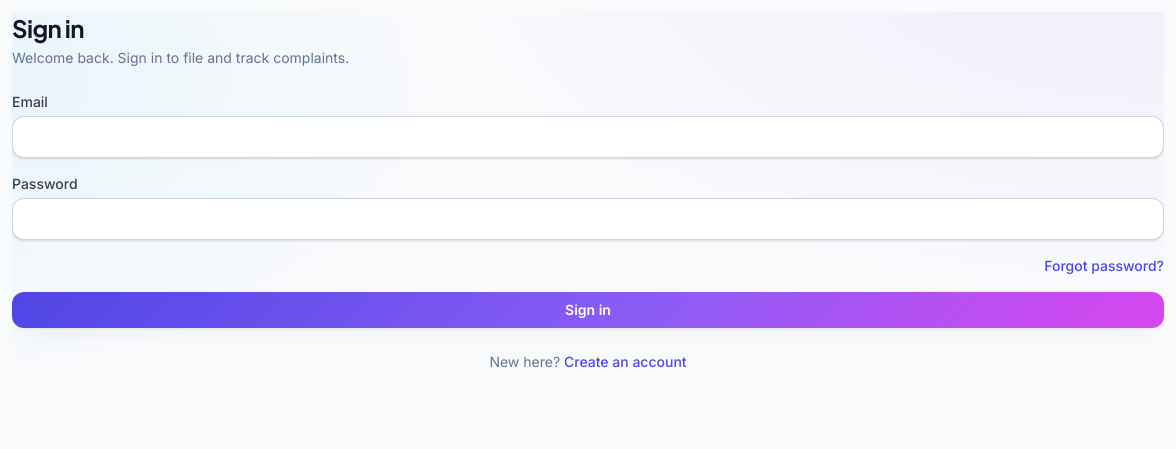
Test case: shows the server error for wrong credentials
Type "priya@example.com" into the field labelled "Email" at (588, 137), box x1=12 y1=116 x2=1164 y2=158
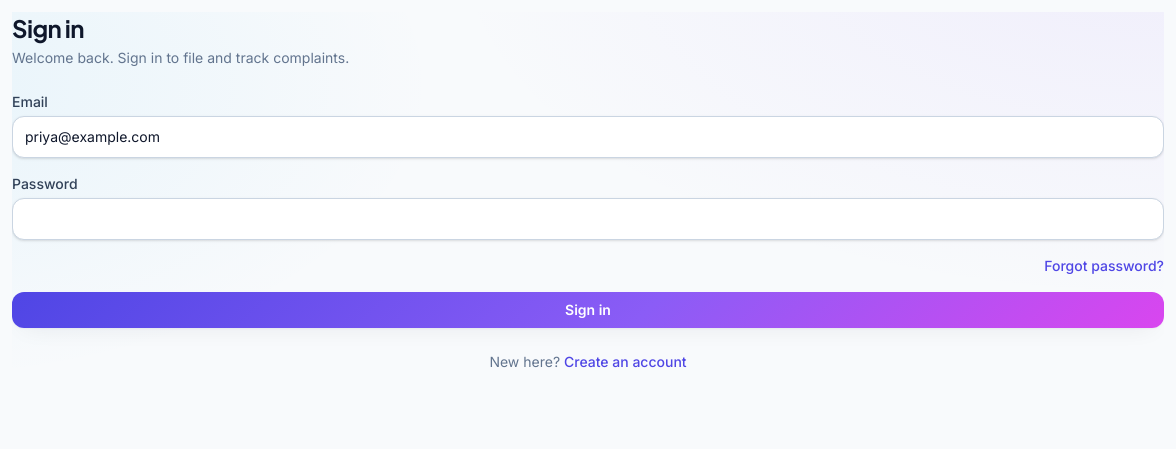
Type "wrong-pass1" into the password field labelled "Password" at (588, 219), box x1=12 y1=198 x2=1164 y2=240
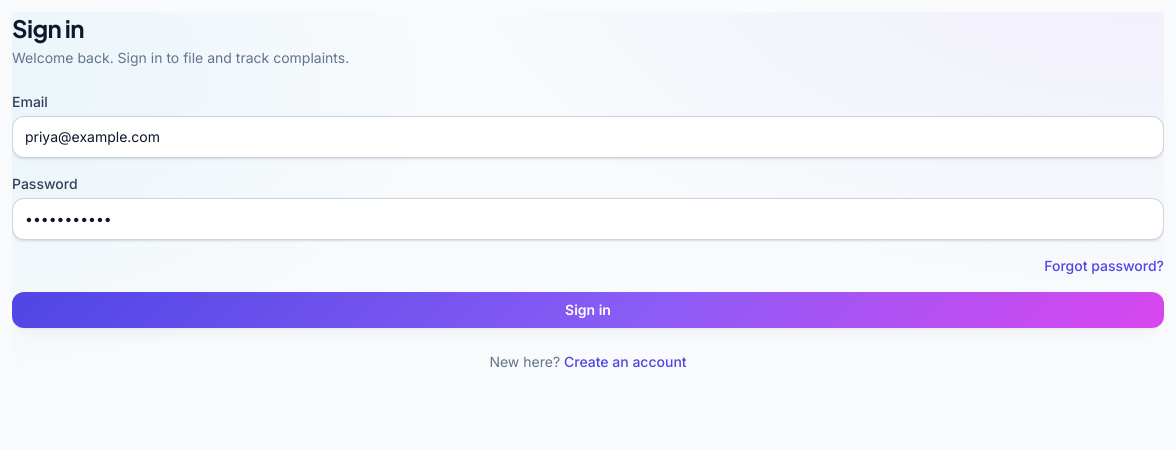
Click the button "Sign in" at (588, 310), box x1=12 y1=292 x2=1164 y2=328
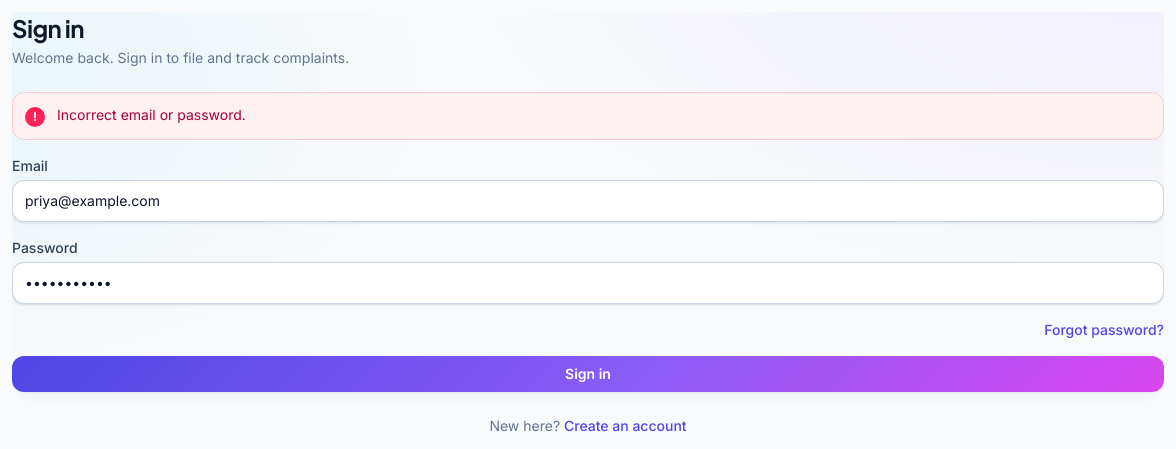
Expected: the message shows "Incorrect email or password.", x1=57 y1=106 x2=246 y2=123
